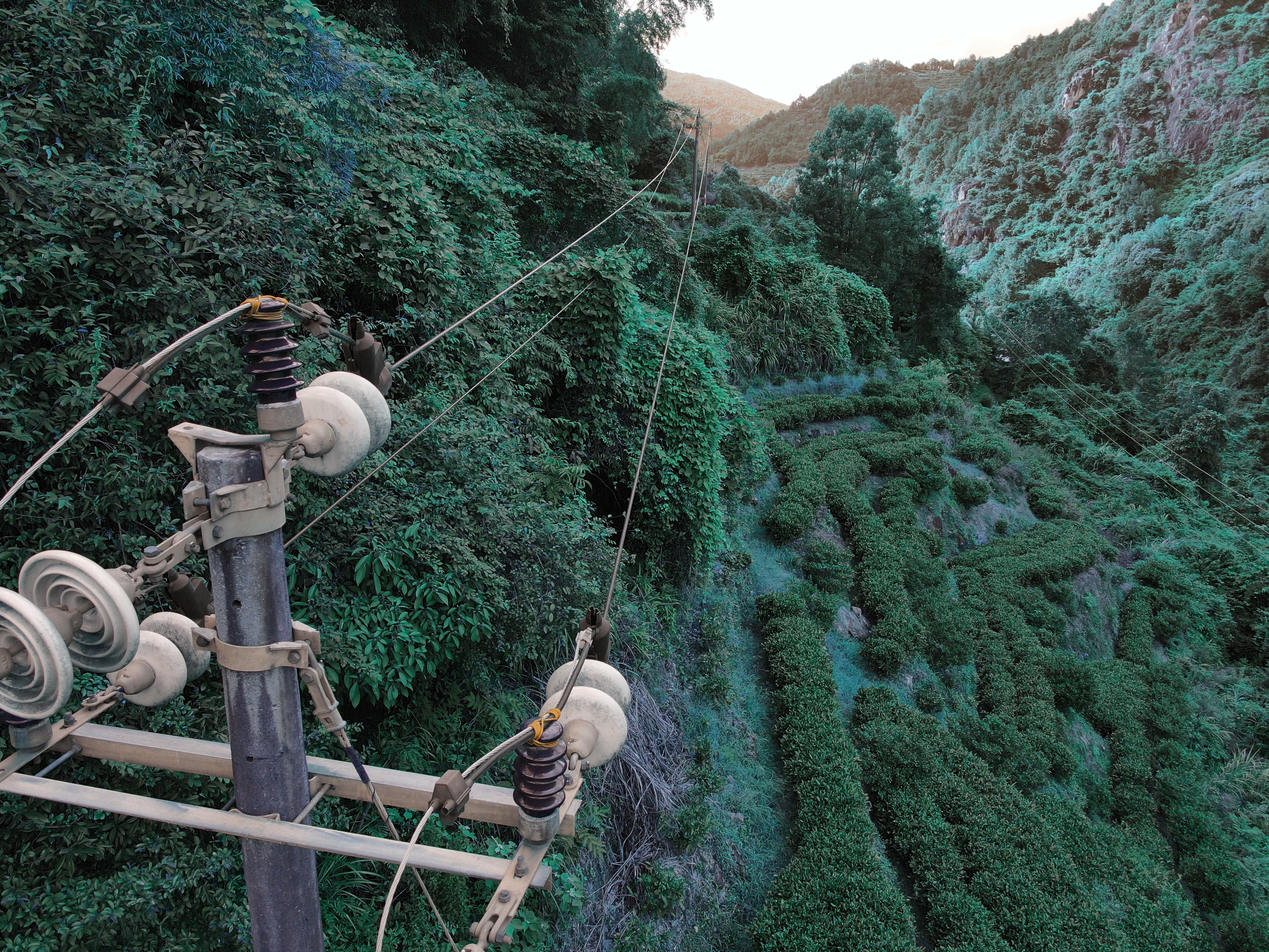severe_soiling_no_discharge_whole: (3, 546, 148, 728), (542, 654, 632, 772), (112, 604, 213, 707), (297, 369, 392, 476)
